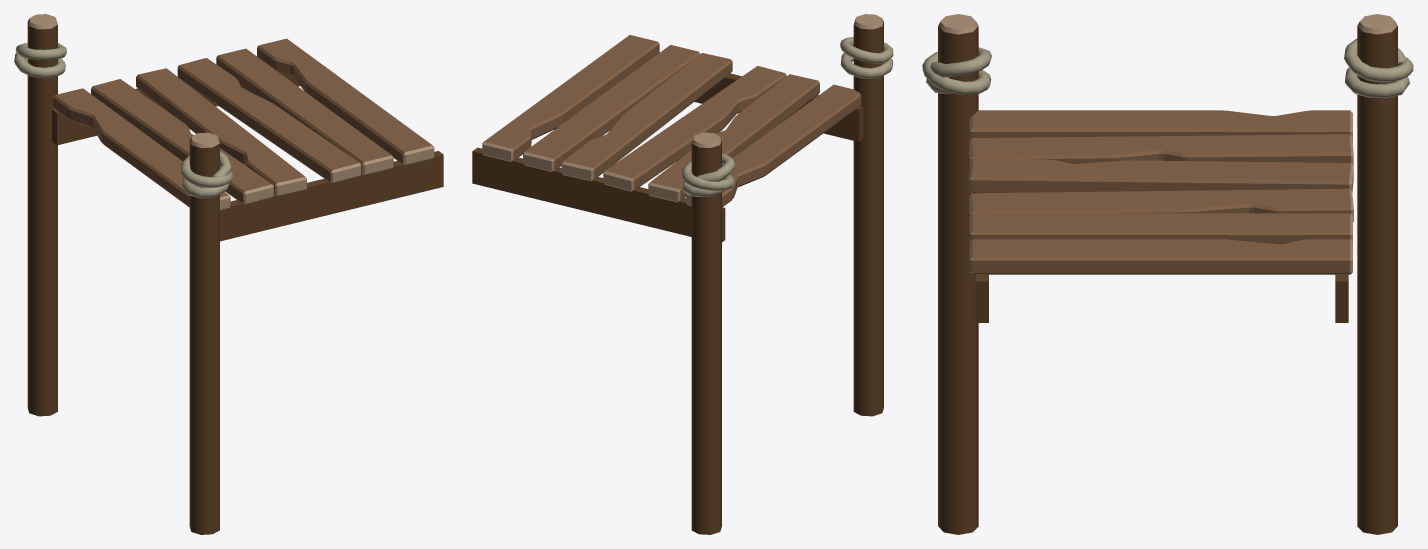
The model's file is beach_dock.glb.
3 views of the same model, side by side, from view 1: azimuth 30°, elevation 25°; view 2: azimuth 150°, elevation 25°; view 3: azimuth 270°, elevation 25° (orthographic). The views are drawn at different scales.
Visible parts, largest first — view 1: Environment_Dock; view 2: Environment_Dock; view 3: Environment_Dock.
Boxes of the visible parts, bbox=[...] form: Environment_Dock: bbox=[14, 14, 443, 534]; Environment_Dock: bbox=[472, 14, 893, 534]; Environment_Dock: bbox=[922, 14, 1413, 534].
Bounding box in the file's own units: 2.18 × 3.01 × 2.66.
1 material, 1 textured.
